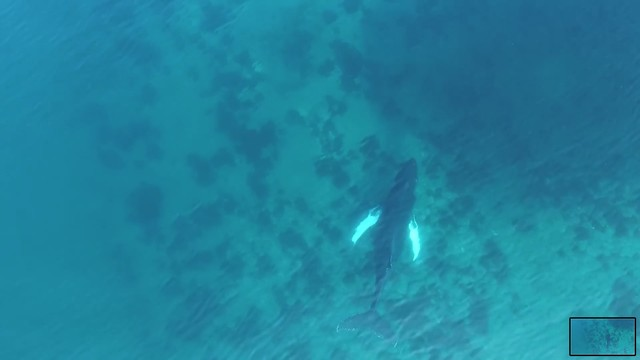whale: (331, 153, 429, 351)
